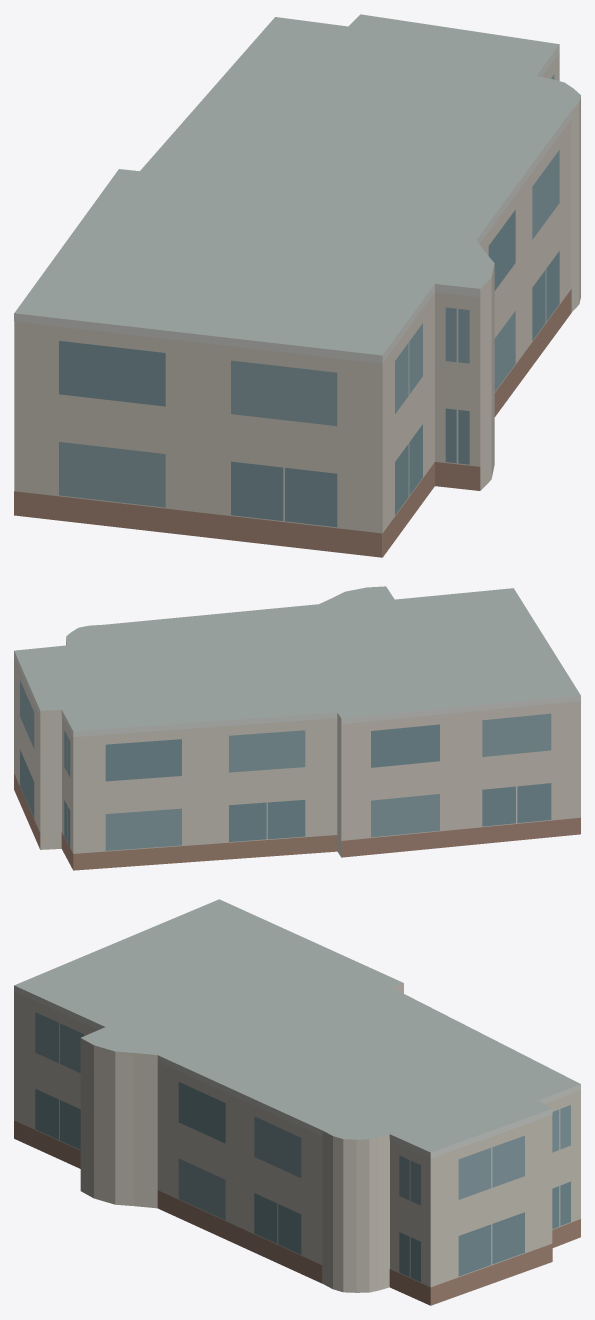
The model's file is survey-upis-32839789.glb.
3 views of the same model, one above another, from view 1: azimuth 30°, elevation 25°; view 2: azimuth 150°, elevation 25°; view 3: azimuth 270°, elevation 25° (orthographic). The views are drawn at different scales.
Parts seen in each view (by area): view 1: survey-upis-32839789.tmp; view 2: survey-upis-32839789.tmp; view 3: survey-upis-32839789.tmp.
Boxes of the visible parts, x1,y1,x2,y2 form: survey-upis-32839789.tmp: [14, 14, 580, 557]; survey-upis-32839789.tmp: [14, 586, 580, 870]; survey-upis-32839789.tmp: [14, 899, 580, 1305].
Size of the model in its own units: 21.63 by 6.1 by 20.46.
